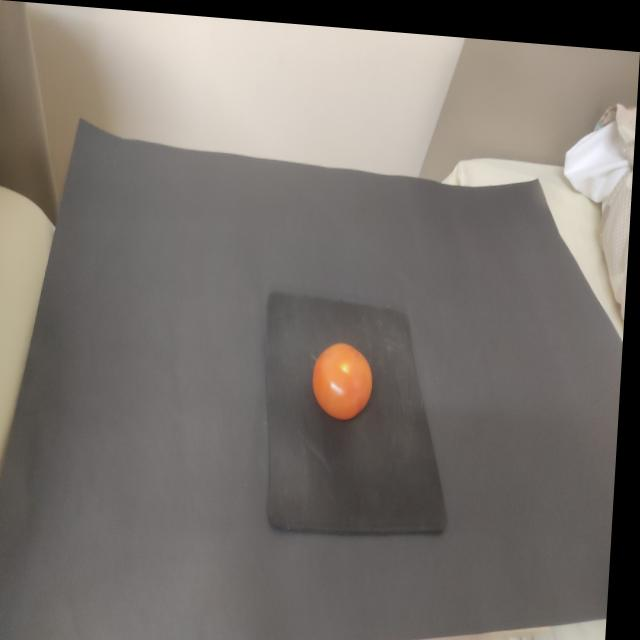sari: (307, 314, 391, 446)
